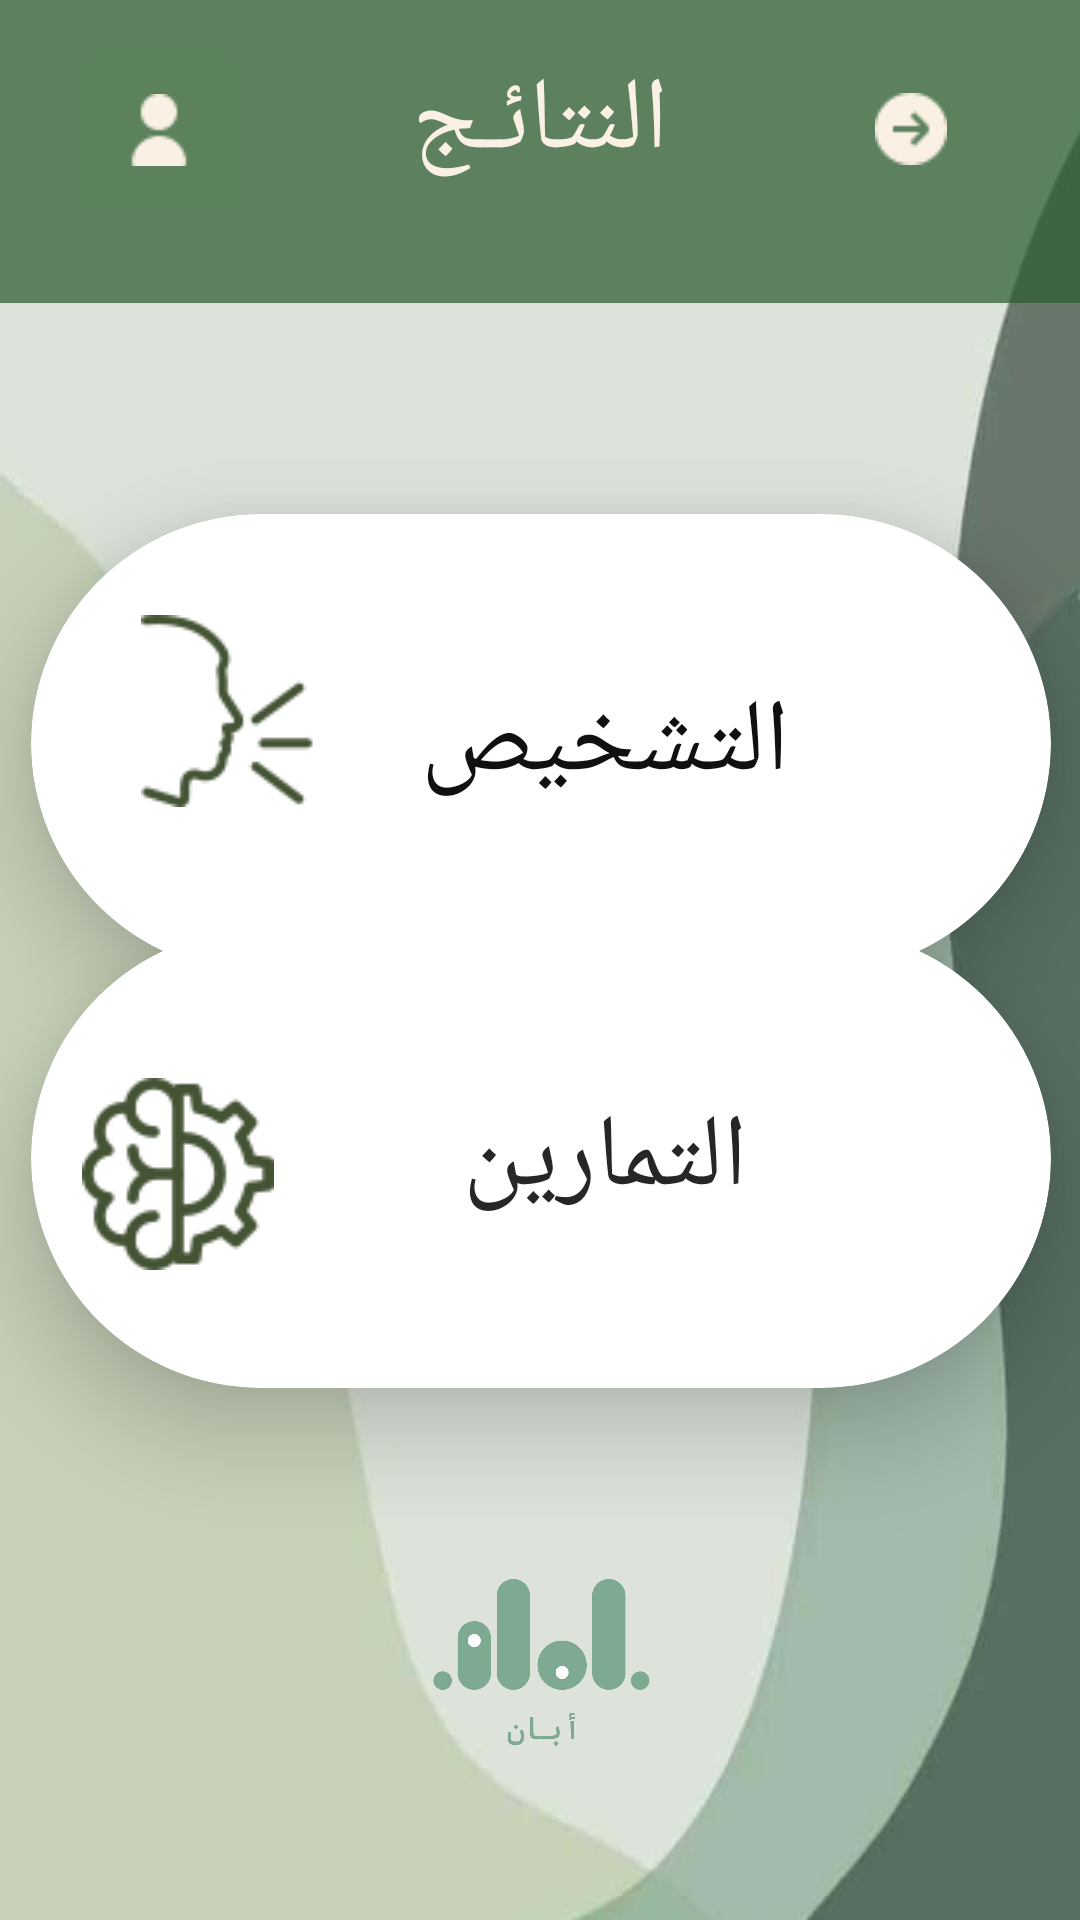

Point at icon controls on the screen. Image size 1080×1920, points as (x,y).
arrow: (911,129)
user: (159,130)
